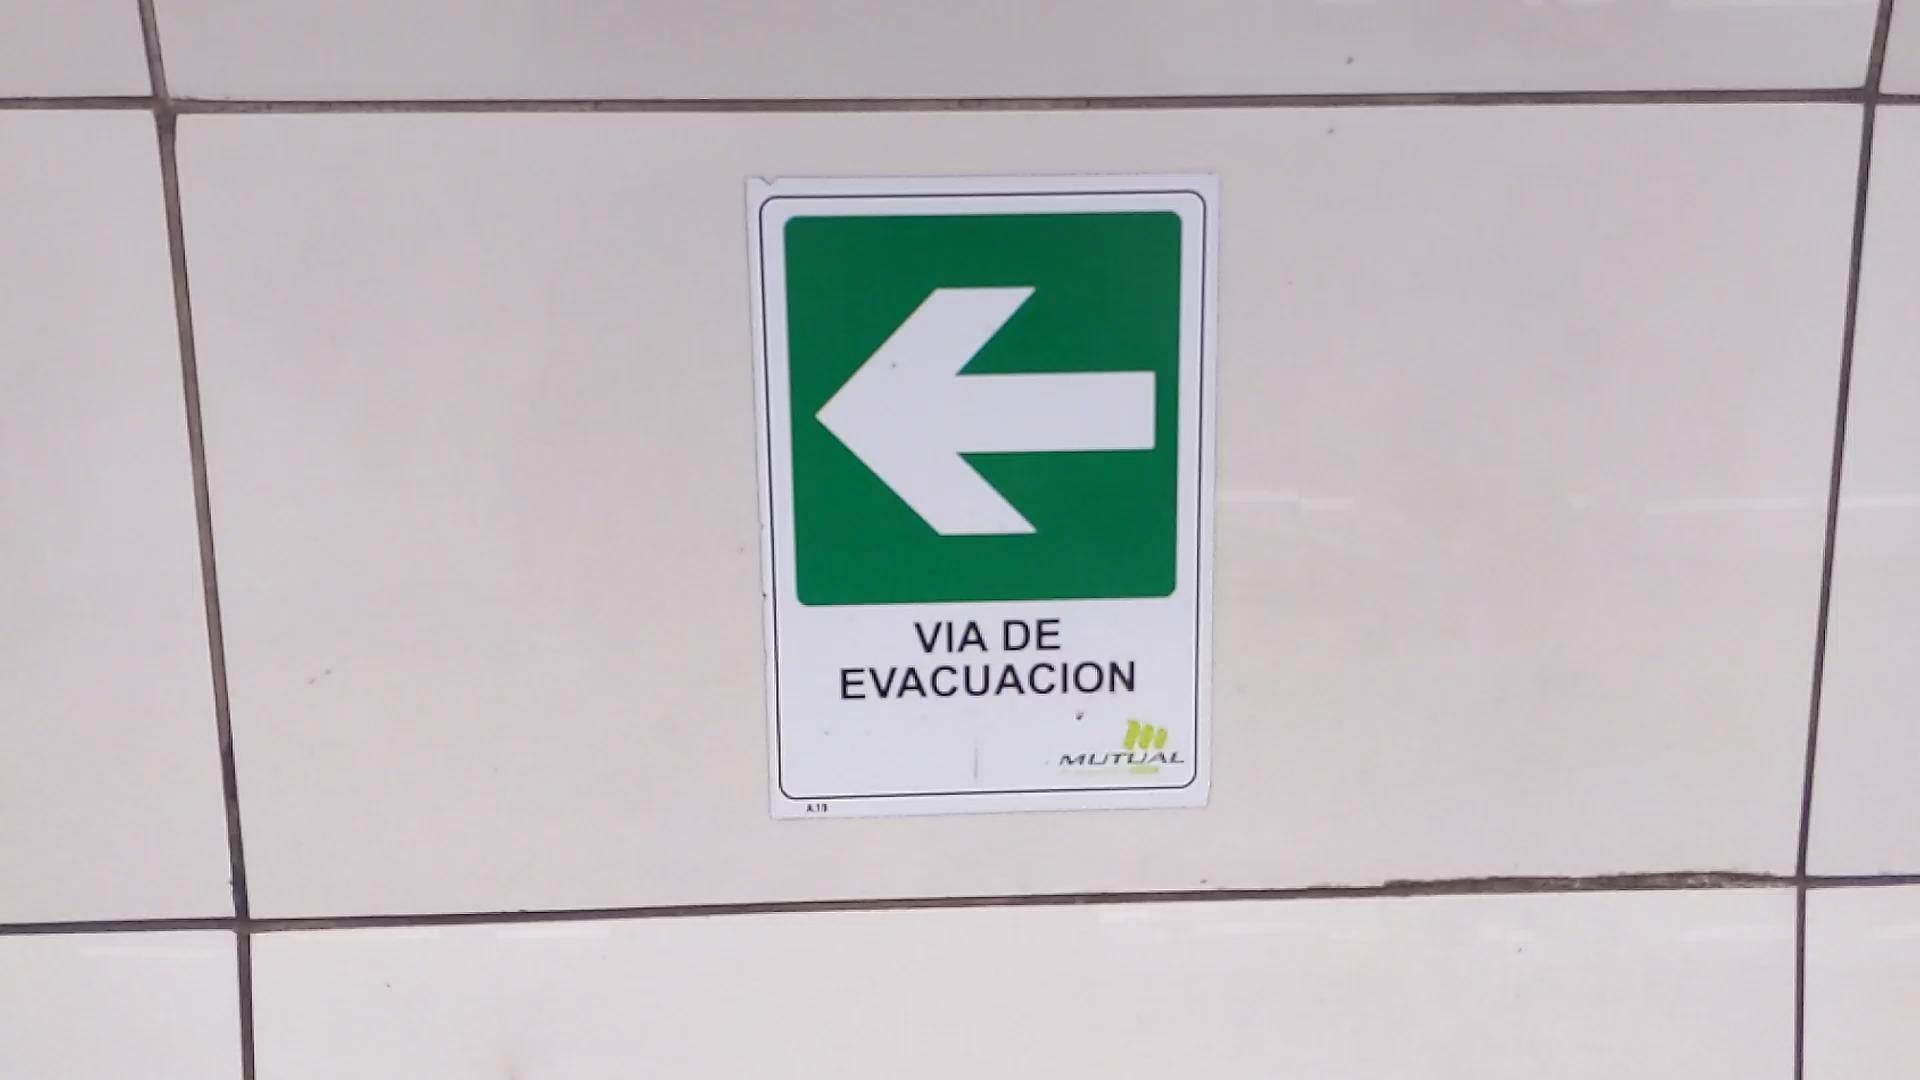left arrow: (812, 277, 1166, 543)
